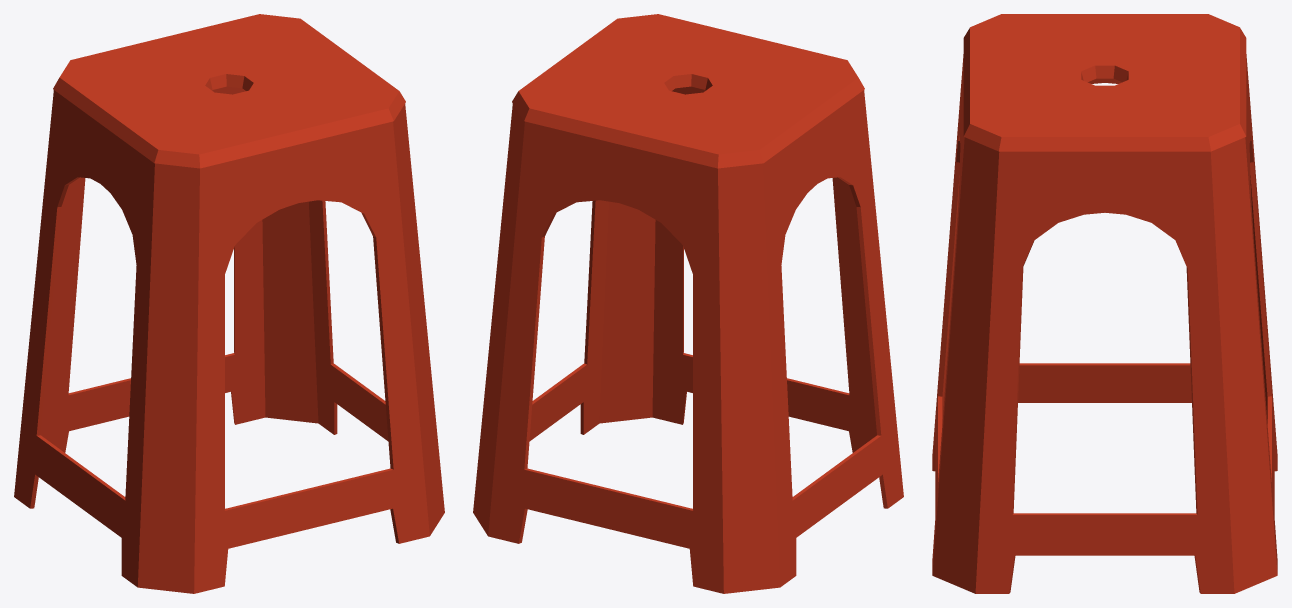
File: SM_Furniture_StoolHigh_Red_01.fbx
The picture shows the model from 3 angles, left to right: view 1: azimuth 30°, elevation 25°; view 2: azimuth 150°, elevation 25°; view 3: azimuth 270°, elevation 25°; orthographic projection. The views are drawn at different scales.
Visible parts, largest first — view 1: SM_Furniture_StoolHigh_Red_01; view 2: SM_Furniture_StoolHigh_Red_01; view 3: SM_Furniture_StoolHigh_Red_01.
Part boxes in pixels (x1=…): SM_Furniture_StoolHigh_Red_01: x1=14, y1=14, x2=444, y2=593; SM_Furniture_StoolHigh_Red_01: x1=473, y1=14, x2=903, y2=593; SM_Furniture_StoolHigh_Red_01: x1=932, y1=14, x2=1277, y2=593.
Size of the model in its own units: 0.344 by 0.45 by 0.32.
Materials: 1 (1 with a texture image).
